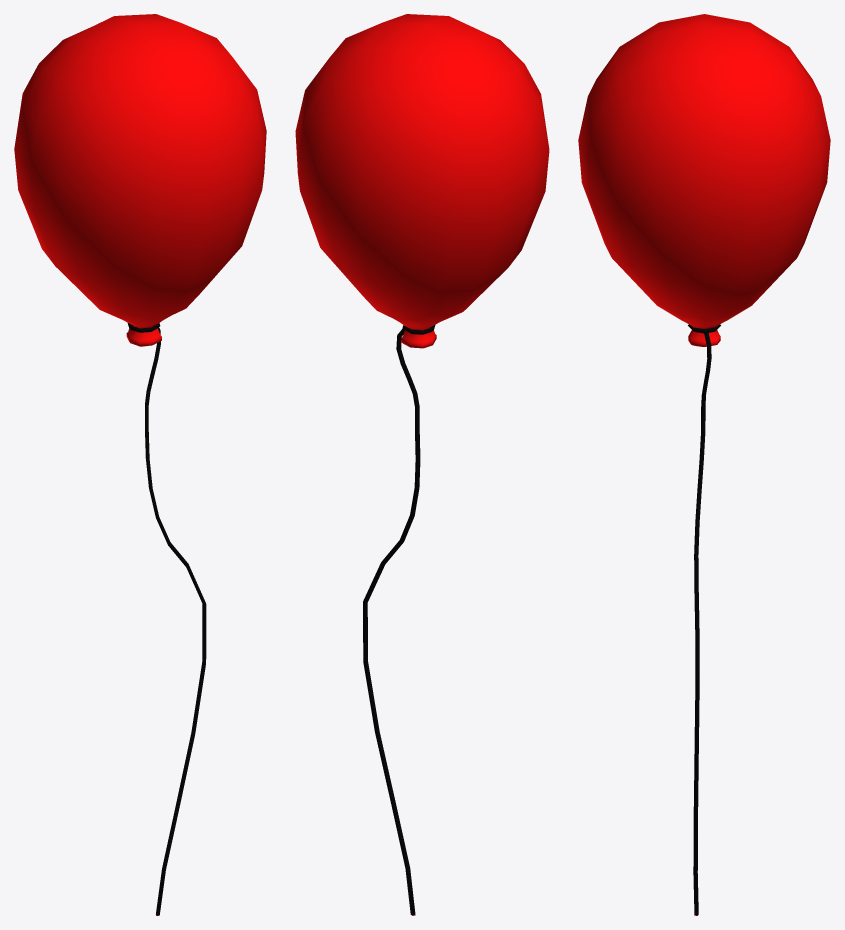
File: Balloon.fbx
The picture shows the model from 3 angles, left to right: view 1: azimuth 30°, elevation 25°; view 2: azimuth 150°, elevation 25°; view 3: azimuth 270°, elevation 25°; orthographic projection.
Visible parts, largest first — view 1: Baloon red; view 2: Baloon red; view 3: Baloon red.
Part boxes in pixels (box(x1,y1,x2,y2)): Baloon red: box(14, 14, 266, 915); Baloon red: box(295, 14, 549, 915); Baloon red: box(578, 14, 830, 915).
Size of the model in its own units: 28.06 by 108 by 28.07.
